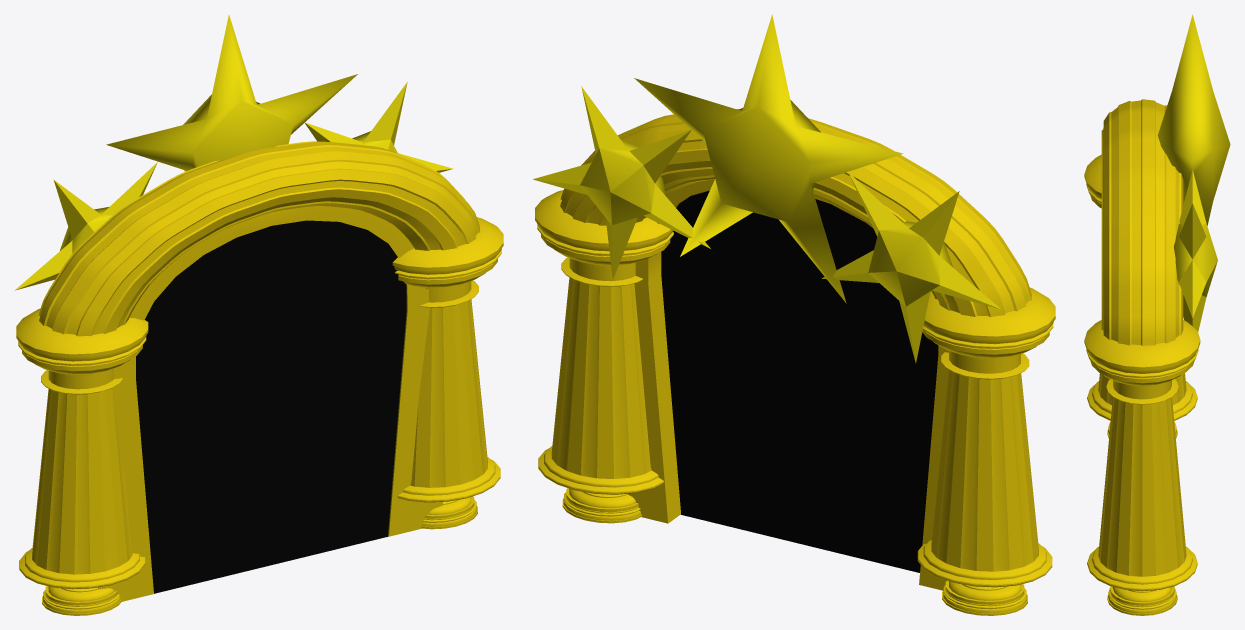
The model's file is goal.fbx.
The picture shows the model from 3 angles, left to right: view 1: azimuth 30°, elevation 25°; view 2: azimuth 150°, elevation 25°; view 3: azimuth 270°, elevation 25°; orthographic projection. The views are drawn at different scales.
Parts seen in each view (by area): view 1: hasira, star, star_mini02, star_mini01; view 2: hasira, star, star_mini02, star_mini01; view 3: hasira, star, star_mini01.
Boxes of the visible parts, box(x1,y1,x2,y2) form: hasira: box(16, 141, 503, 615); star: box(106, 15, 357, 171); star_mini02: box(15, 162, 157, 290); star_mini01: box(304, 82, 453, 172); hasira: box(535, 109, 1055, 615); star: box(634, 14, 902, 303); star_mini02: box(821, 172, 1001, 363); star_mini01: box(533, 86, 710, 279); hasira: box(1084, 99, 1200, 615); star: box(1157, 14, 1230, 225); star_mini01: box(1174, 170, 1217, 332).
Bounding box in the file's own units: 324 × 343 × 90.56.
